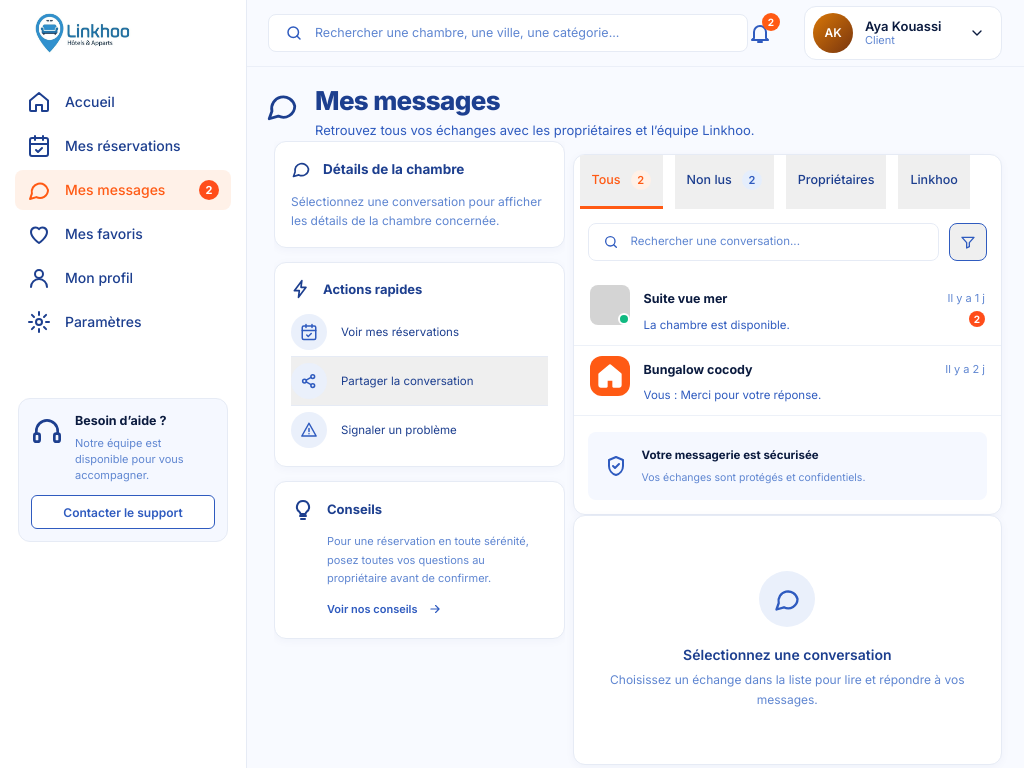
Test: ClientMessagesMaq — boîte de réception › filtre les conversations sur l’onglet « Non lus »
The image size is (1024, 768).
Check: the heading "Suite vue mer" is shown, box top-left (644, 291), bottom-right (728, 306)
Step 1. Click the button "Non lus 2" → (724, 182), box top-left (675, 155), bottom-right (774, 209)
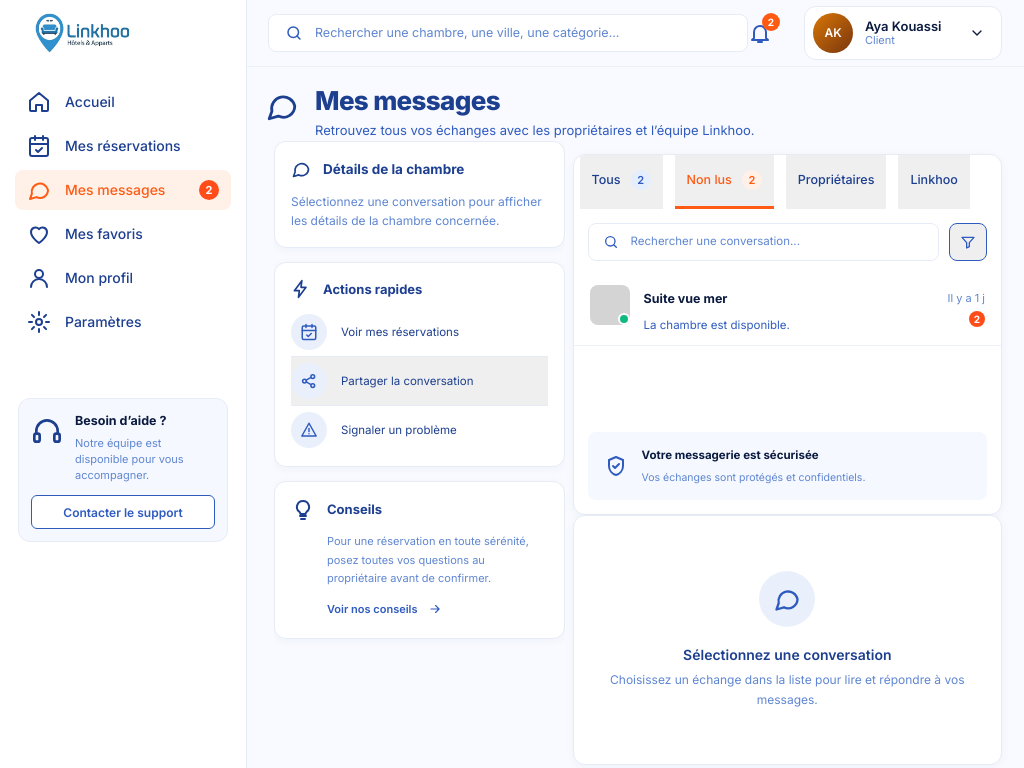
Check: the heading "Suite vue mer" is shown, box top-left (644, 291), bottom-right (728, 306)
Check: the link "Bungalow cocody" is gone
